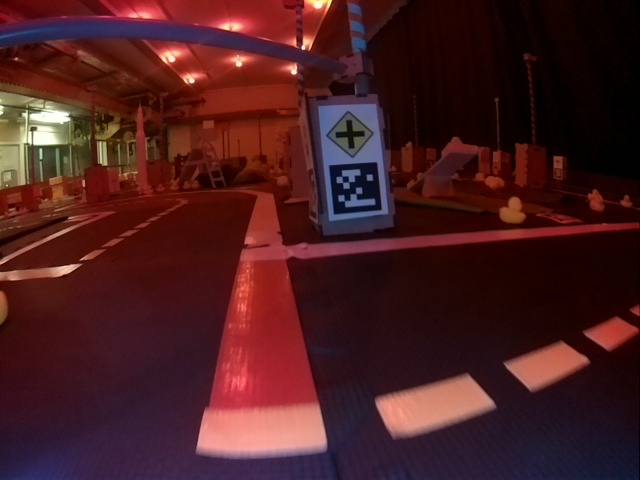Duckie: (499, 196, 524, 222), (590, 196, 604, 212)
Intersection sign: (325, 108, 373, 158)
QR code: (328, 162, 382, 214)
